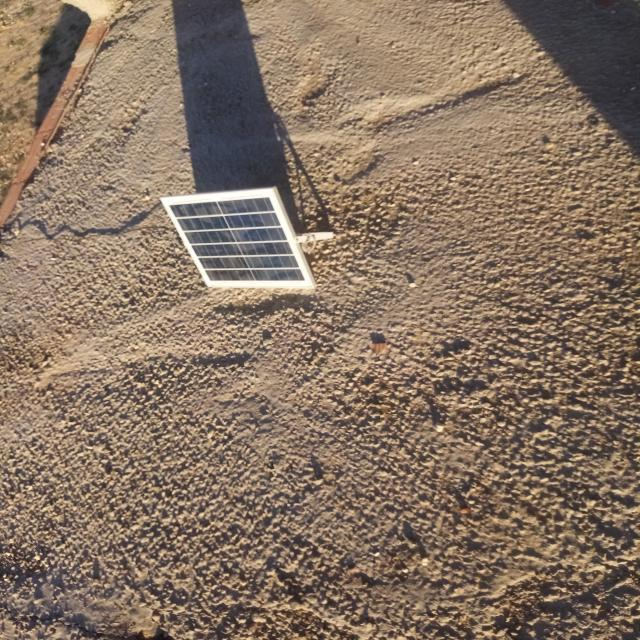faulty: (161, 188, 313, 288)
